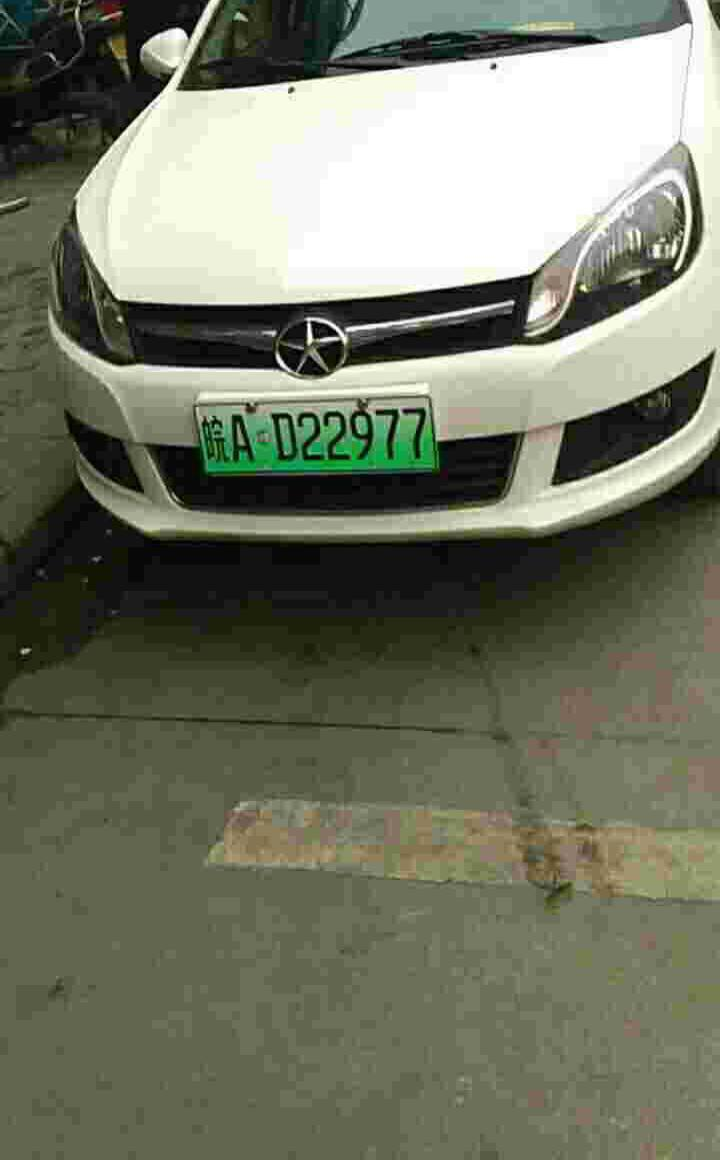car: (184, 398, 445, 477)
